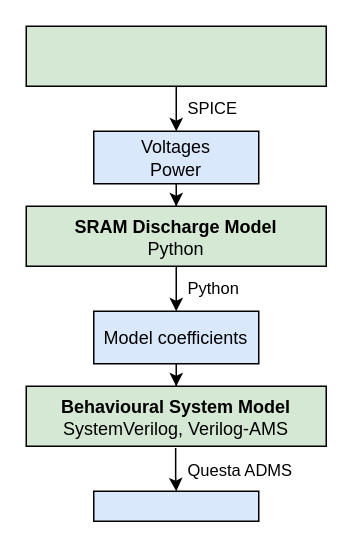
Image size: 353x548. Some labels were removed from this diagram. The box of each missing label's shape, as (x1, y1, x2, y2) in pixels:
Circuit Model Cadence Virtuoso: (25, 25, 326, 86)
Simulation Results: (92, 490, 259, 521)
